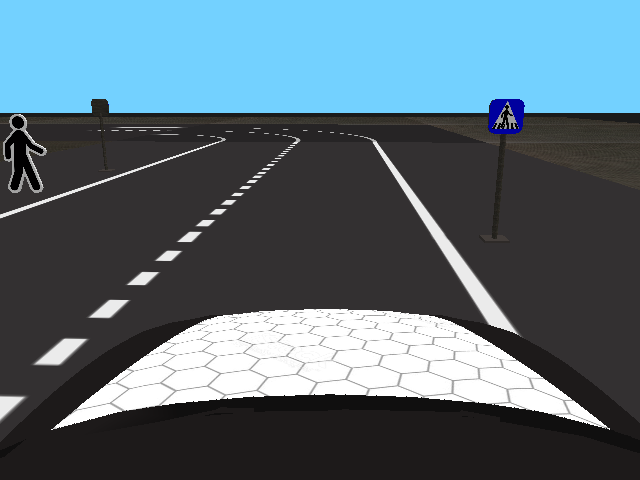pedestrian: (2, 114, 47, 194)
pedestrian_cross: (488, 99, 524, 135)
